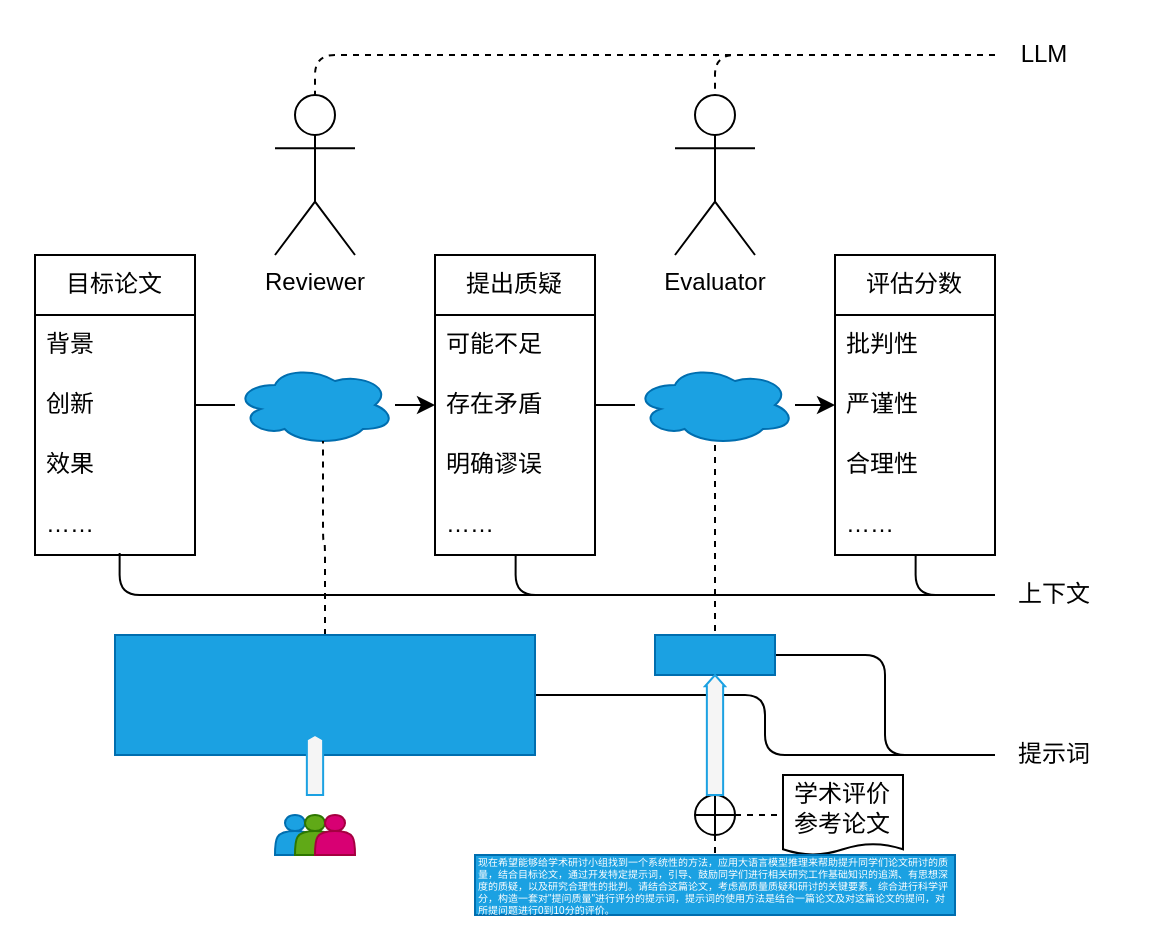
Image size: 1150x950. Some labels were removed from this diagram. Here are the shapes that lost their labels. From the top down, the centre of each, then its label:
point (314, 404): 引导质疑
point (714, 404): 引导评价
point (714, 654): <评分提示词>
point (324, 694): <质疑提示词> 请从实际应用落地的可行性、核心工作的代价和收益矛盾、实验场景和负载的代表性这几个方面，对这项工作提出质疑 100字以内
